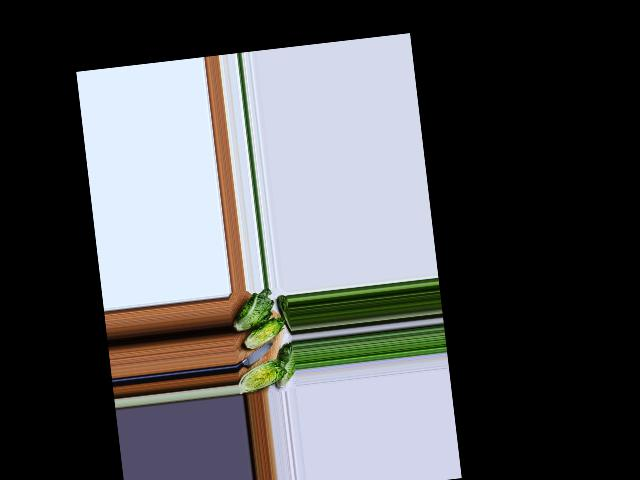lettuce: (272, 343, 295, 387)
